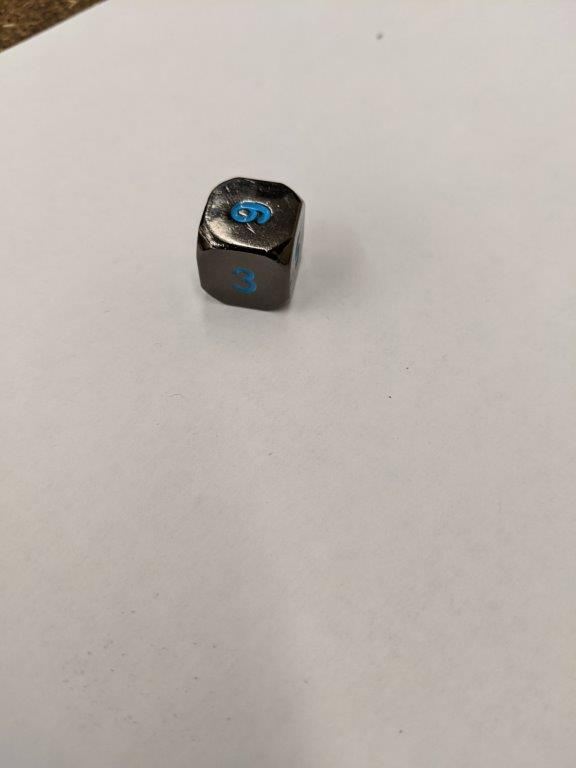d6-6: (195, 176, 311, 317)
